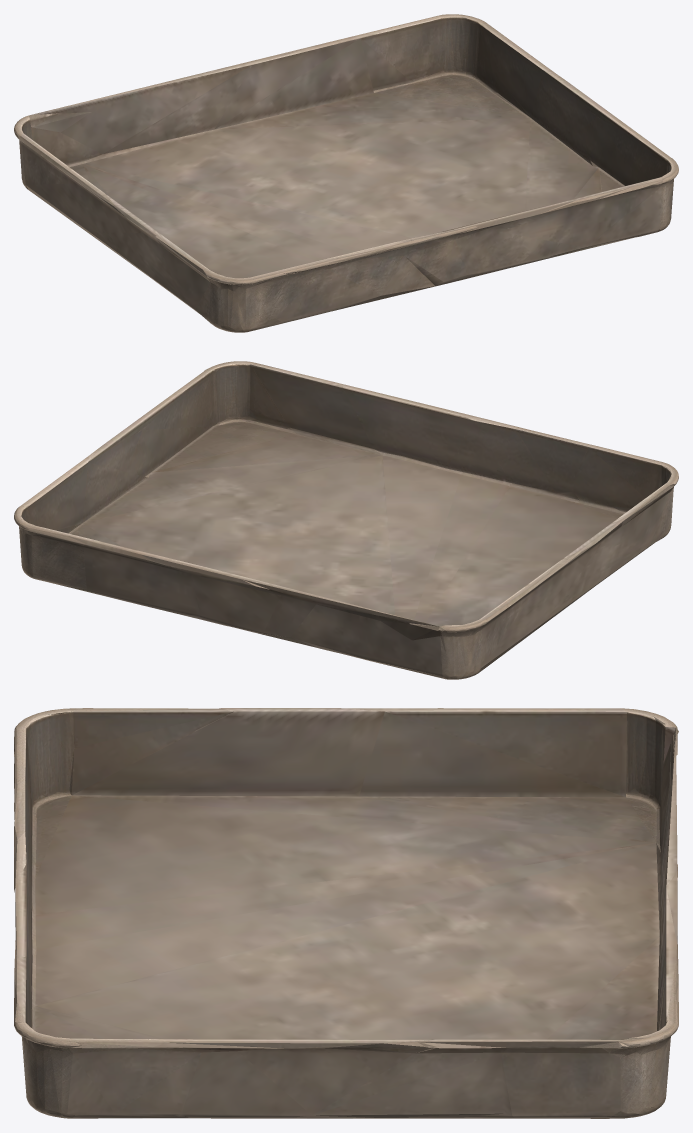
Rendered from ebru-teknesi.glb.
3 views of the same model, one above another, from view 1: azimuth 30°, elevation 25°; view 2: azimuth 150°, elevation 25°; view 3: azimuth 270°, elevation 25° (orthographic). The views are drawn at different scales.
Visible parts, largest first — view 1: output_unwrapped; view 2: output_unwrapped; view 3: output_unwrapped.
Part boxes in pixels (left/top/right/bottom): output_unwrapped: left=14, top=14, right=678, bottom=332; output_unwrapped: left=14, top=361, right=678, bottom=679; output_unwrapped: left=14, top=708, right=678, bottom=1118.
Bounding box in the file's own units: 1.9 × 0.2217 × 1.59.
1 material, 1 textured.
